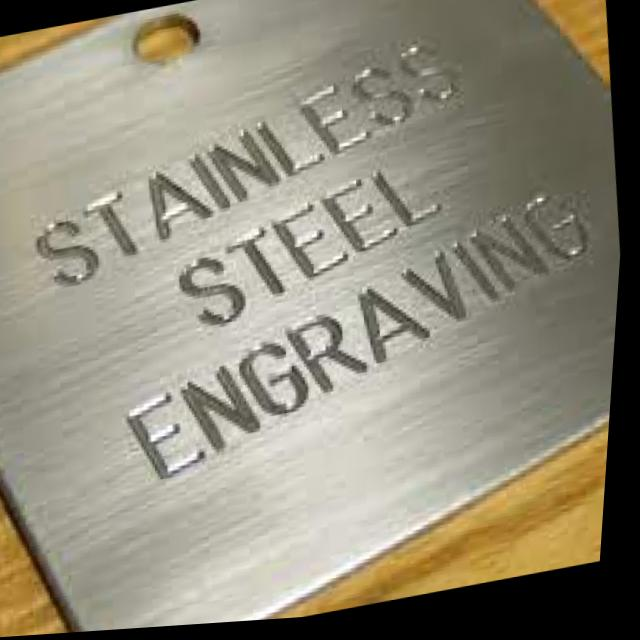ocr: (0, 0, 629, 519)
